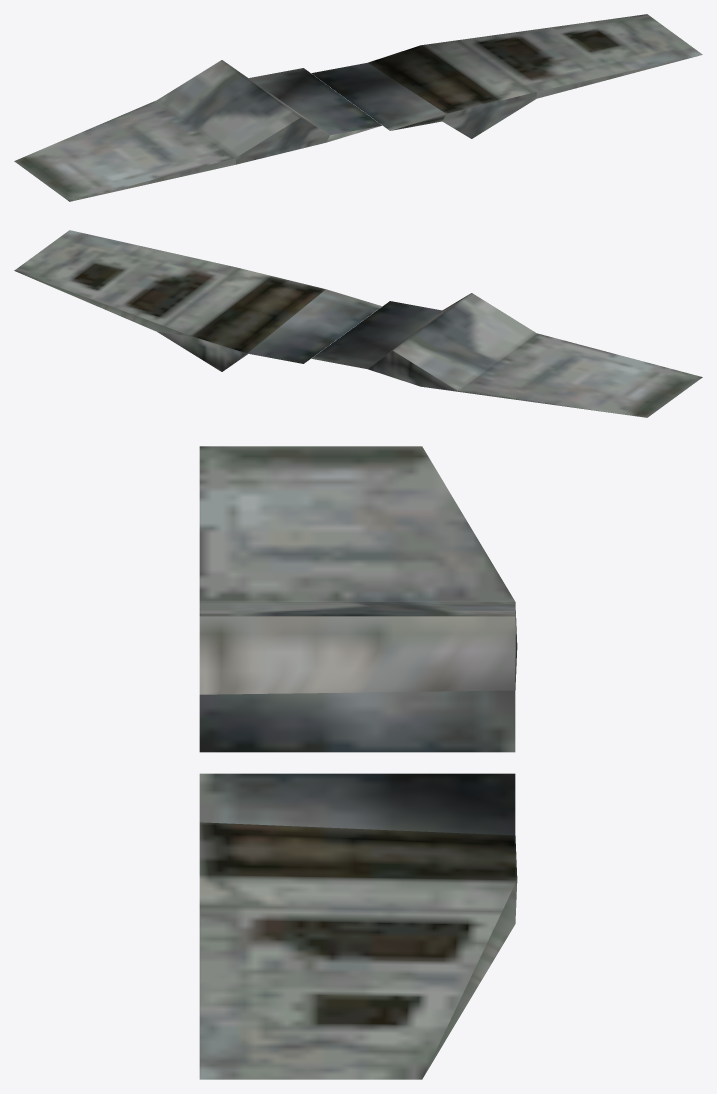
File: xwing_wing_pos_l3.fbx
3 views of the same model, one above another, from view 1: azimuth 30°, elevation 25°; view 2: azimuth 150°, elevation 25°; view 3: azimuth 270°, elevation 25° (orthographic). The views are drawn at different scales.
Parts seen in each view (by area): view 1: mesh_node; view 2: mesh_node; view 3: mesh_node.
Boxes of the visible parts, left/top/right/bottom form: mesh_node: left=14, top=14, right=702, bottom=201; mesh_node: left=14, top=230, right=702, bottom=417; mesh_node: left=199, top=446, right=517, bottom=1079.
Bounding box in the file's own units: 12.97 × 1.24 × 2.82.
Materials: 1 (1 with a texture image).
